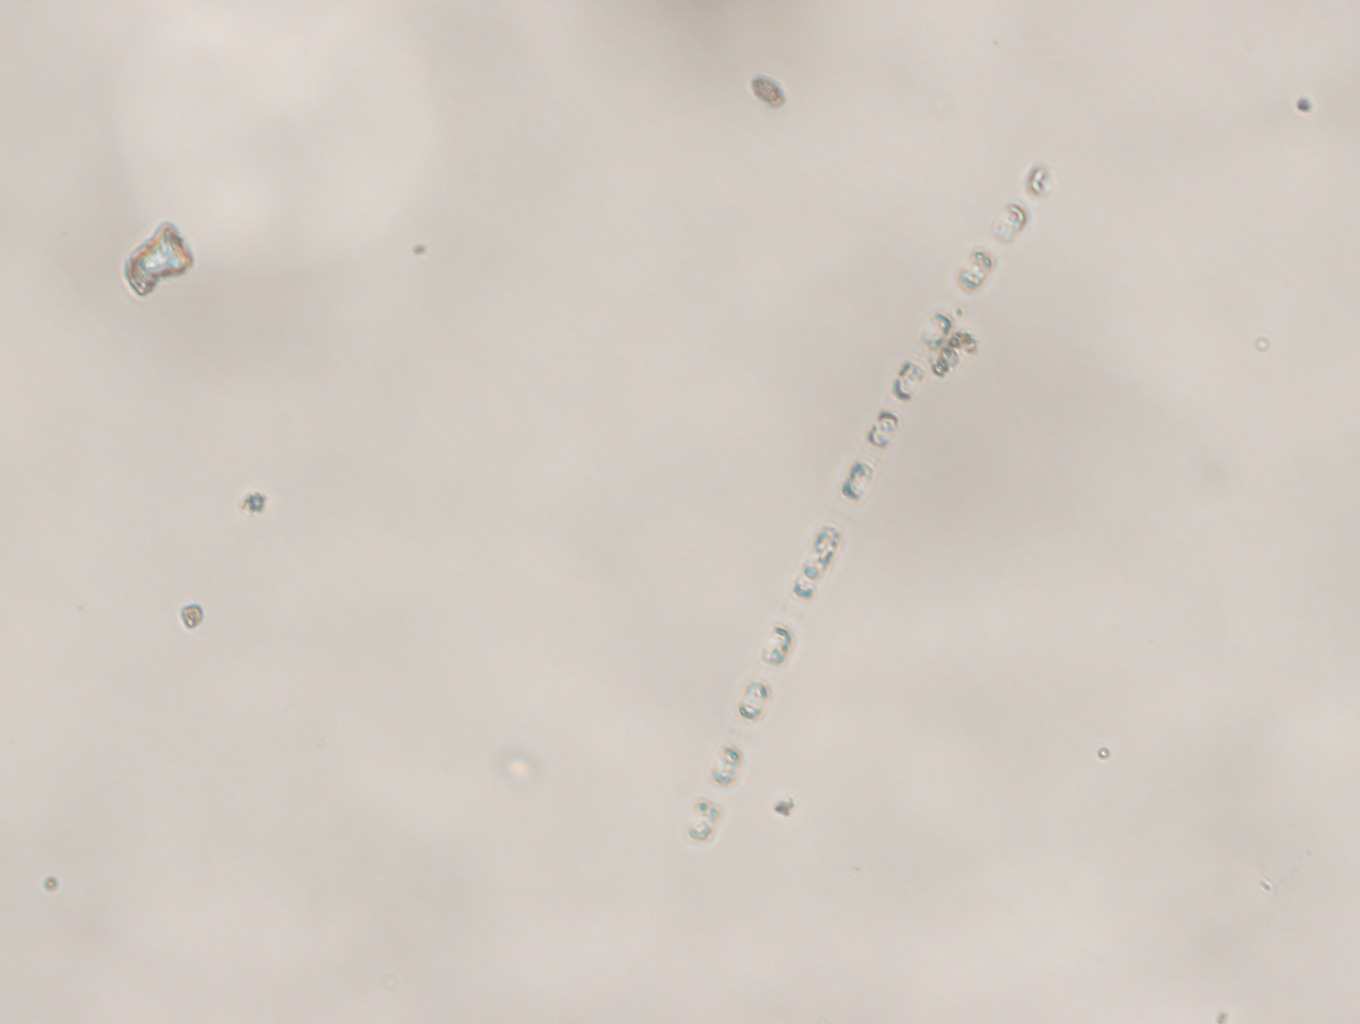skeletonema: (679, 160, 1060, 849)
